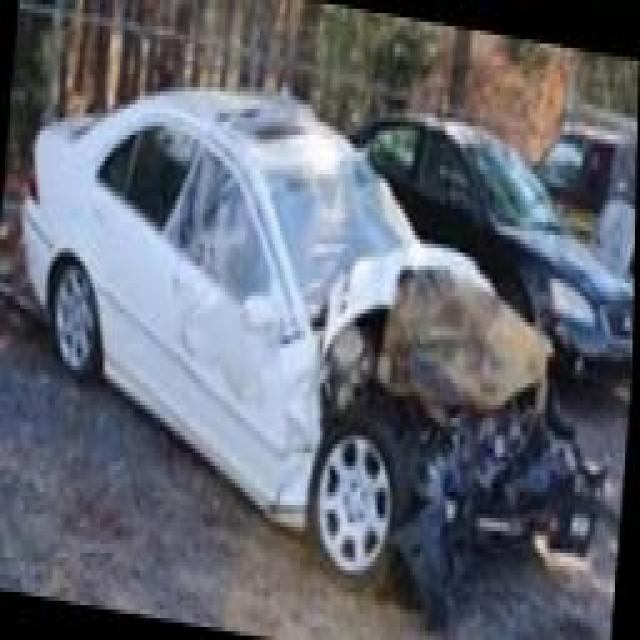Bonnet: (327, 235, 557, 406)
Bumper: (397, 377, 614, 640)
Door: (167, 134, 312, 509)
Windshield: (268, 156, 429, 306)
